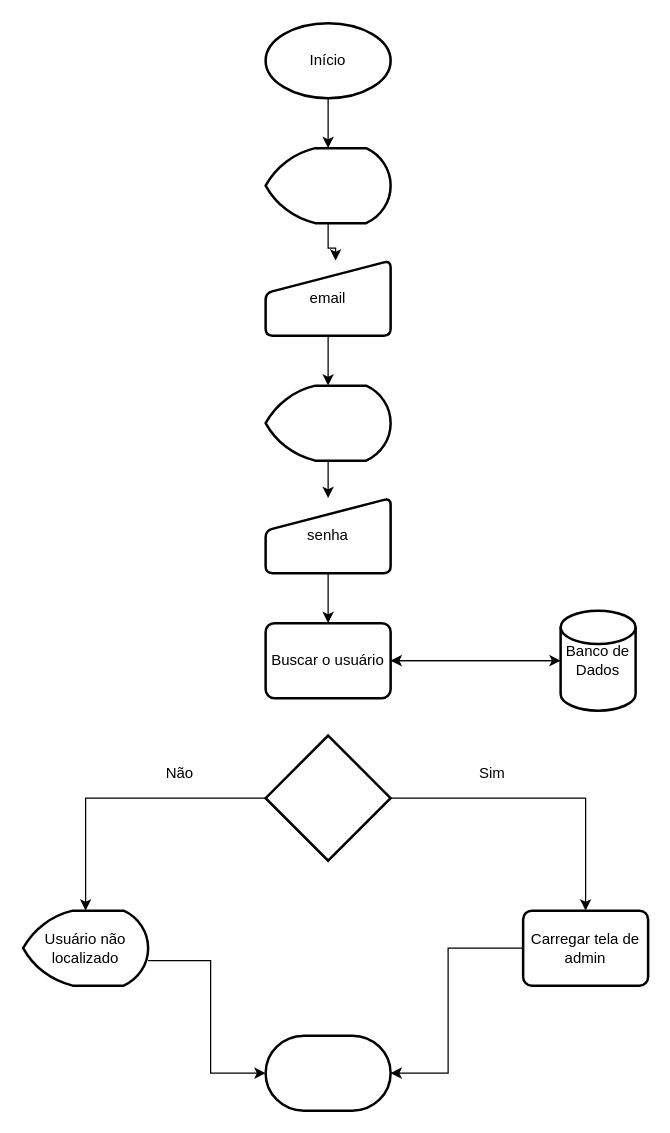
This 670x1133 diagram has some shape labels left out. The centre of each missing label's shape, as x and y in pixels:
"Achou?" goes at point 327,797.
"Digite seu email" goes at point 327,185.
"Digite sua senha" goes at point 327,422.
"Término" goes at point 327,1072.
